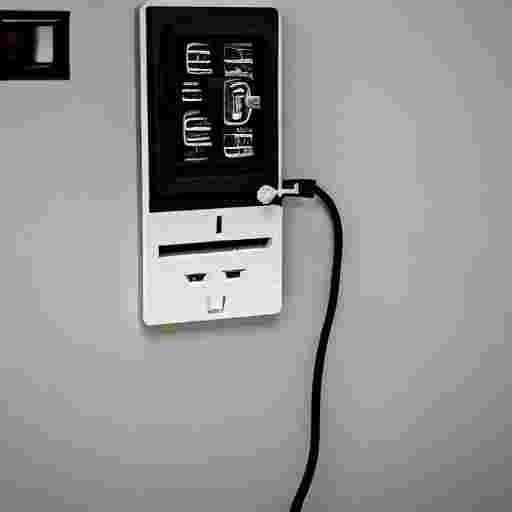power outlet: (138, 2, 282, 325)
